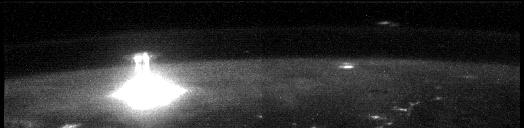positive: (126, 50, 155, 74)
